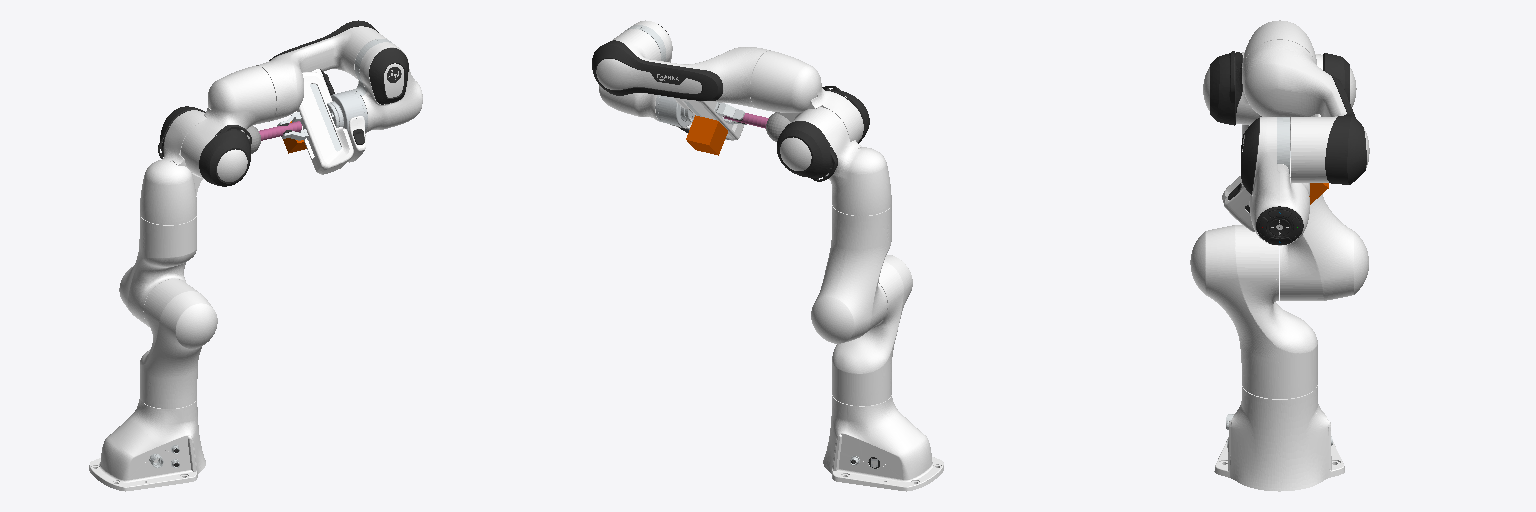
--- What the picture shows (computed from the rendered views, not written in the file) ---
The picture shows the robot from 3 angles, left to right: view 1: azimuth 30°, elevation 25°; view 2: azimuth 150°, elevation 25°; view 3: azimuth 270°, elevation 25°; orthographic projection.
Robot: panda — 16 links, 15 joints (8 revolute, 2 prismatic, 5 fixed); root link world; default pose: joints at zero except 1 at the middle of their limits (panda_joint4 = -1.57).
Links seen in each view (by area): view 1: panda_link0, panda_link1, panda_link4, panda_link3, panda_link5, panda_link6, panda_link2, panda_hand, panda_link7; view 2: panda_link0, panda_link5, panda_link2, panda_link3, panda_link1, panda_link4, panda_link6, panda_camera, panda_hand, panda_link7; view 3: panda_link1, panda_link5, panda_link0, panda_link6, panda_link2, panda_link4, panda_link3, panda_link7.
Boxes of the visible links, box(x1,y1,x2,y2) form: panda_link0: box(89, 399, 205, 491); panda_link1: box(140, 279, 217, 408); panda_link4: box(181, 66, 276, 186); panda_link3: box(140, 106, 206, 224); panda_link5: box(256, 20, 387, 121); panda_link6: box(353, 39, 422, 133); panda_link2: box(119, 216, 196, 326); panda_hand: box(294, 69, 353, 174); panda_link7: box(330, 90, 367, 162); panda_link0: box(823, 395, 943, 491); panda_link5: box(592, 29, 770, 107); panda_link2: box(811, 205, 891, 343); panda_link3: box(777, 107, 891, 215); panda_link1: box(832, 255, 912, 405); panda_link4: box(750, 51, 869, 143); panda_link6: box(599, 20, 672, 121); panda_camera: box(686, 115, 727, 155); panda_hand: box(673, 97, 743, 140); panda_link7: box(655, 95, 691, 132); panda_link1: box(1190, 225, 1317, 398); panda_link5: box(1242, 40, 1369, 184); panda_link0: box(1214, 385, 1344, 491); panda_link6: box(1241, 117, 1309, 245); panda_link2: box(1280, 194, 1368, 300); panda_link4: box(1203, 20, 1316, 125); panda_link3: box(1242, 53, 1356, 137); panda_link7: box(1224, 151, 1309, 231).
Bounding box of the posed robot: 0.7022 × 0.2593 × 0.7865 m (x, y, z).
11 mesh visuals loaded from 10 distinct referenced files (10 Collada DAE).

URDF robot description (panda):
<?xml version="1.0" encoding="utf-8"?>
<!-- =================================================================================== -->
<!-- |    This document was autogenerated by xacro from panda_arm_hand.urdf.xacro      | -->
<!-- |    EDITING THIS FILE BY HAND IS NOT RECOMMENDED                                 | -->
<!-- =================================================================================== -->
<robot name="panda" xmlns:xacro="http://www.ros.org/wiki/xacro">
  <!-- end for simulation -->
  <!-- for simulation -->
  <link name="world"/>
  <joint name="robot_to_world" type="fixed">
    <parent link="world"/>
    <child link="panda_link0"/>
    <origin rpy="0.0 0.0 0.0" xyz="0.0 0.0 0.0"/>
  </joint>
  <!-- end for simulation -->
  <link name="panda_link0">
    <visual>
      <geometry>
        <mesh filename="package://franka_description/meshes/visual/link0.dae"/>
      </geometry>
    </visual>
    <collision>
      <geometry>
        <mesh filename="package://franka_description/meshes/collision/link0.stl"/>
      </geometry>
    </collision>
    <!-- for simulation -->
    <inertial>
      <origin rpy="0 0 0" xyz="0 0 0"/>
      <mass value="3.06"/>
      <inertia ixx="0.3" ixy="0.0" ixz="0.0" iyy="0.3" iyz="0.0" izz="0.3"/>
    </inertial>
    <!-- end for simulation -->
  </link>
  <link name="panda_link1">
    <visual>
      <geometry>
        <mesh filename="package://franka_description/meshes/visual/link1.dae"/>
      </geometry>
    </visual>
    <collision>
      <geometry>
        <mesh filename="package://franka_description/meshes/collision/link1.stl"/>
      </geometry>
    </collision>
    <!-- for simulation -->
    <inertial>
      <origin rpy="0 0 0" xyz="0 0 0"/>
      <mass value="2.34"/>
      <inertia ixx="0.3" ixy="0.0" ixz="0.0" iyy="0.3" iyz="0.0" izz="0.3"/>
    </inertial>
    <!-- end for simulation -->
  </link>
  <joint name="panda_joint1" type="revolute">
    <safety_controller k_position="100.0" k_velocity="40.0" soft_lower_limit="-2.8973" soft_upper_limit="2.8973"/>
    <origin rpy="0 0 0" xyz="0 0 0.333"/>
    <parent link="panda_link0"/>
    <child link="panda_link1"/>
    <axis xyz="0 0 1"/>
    <limit effort="87" lower="-2.8973" upper="2.8973" velocity="2.1750"/>
    <!-- for simulation -->
    <dynamics damping="1.0"/>
    <!-- end for simulation -->
  </joint>
  <link name="panda_link2">
    <visual>
      <geometry>
        <mesh filename="package://franka_description/meshes/visual/link2.dae"/>
      </geometry>
    </visual>
    <collision>
      <geometry>
        <mesh filename="package://franka_description/meshes/collision/link2.stl"/>
      </geometry>
    </collision>
    <!-- for simulation -->
    <inertial>
      <origin rpy="0 0 0" xyz="0 0 0"/>
      <mass value="2.36"/>
      <inertia ixx="0.3" ixy="0.0" ixz="0.0" iyy="0.3" iyz="0.0" izz="0.3"/>
    </inertial>
    <!-- end for simulation -->
  </link>
  <joint name="panda_joint2" type="revolute">
    <safety_controller k_position="100.0" k_velocity="40.0" soft_lower_limit="-1.7628" soft_upper_limit="1.7628"/>
    <origin rpy="-1.57079632679 0 0" xyz="0 0 0"/>
    <parent link="panda_link1"/>
    <child link="panda_link2"/>
    <axis xyz="0 0 1"/>
    <limit effort="87" lower="-1.7628" upper="1.7628" velocity="2.1750"/>
    <!-- for simulation -->
    <dynamics damping="1.0"/>
    <!-- end for simulation -->
  </joint>
  <link name="panda_link3">
    <visual>
      <geometry>
        <mesh filename="package://franka_description/meshes/visual/link3.dae"/>
      </geometry>
    </visual>
    <collision>
      <geometry>
        <mesh filename="package://franka_description/meshes/collision/link3.stl"/>
      </geometry>
    </collision>
    <!-- for simulation -->
    <inertial>
      <origin rpy="0 0 0" xyz="0 0 0"/>
      <mass value="2.38"/>
      <inertia ixx="0.3" ixy="0.0" ixz="0.0" iyy="0.3" iyz="0.0" izz="0.3"/>
    </inertial>
    <!-- end for simulation -->
  </link>
  <joint name="panda_joint3" type="revolute">
    <safety_controller k_position="100.0" k_velocity="40.0" soft_lower_limit="-2.8973" soft_upper_limit="2.8973"/>
    <origin rpy="1.57079632679 0 0" xyz="0 -0.316 0"/>
    <parent link="panda_link2"/>
    <child link="panda_link3"/>
    <axis xyz="0 0 1"/>
    <limit effort="87" lower="-2.8973" upper="2.8973" velocity="2.1750"/>
    <!-- for simulation -->
    <dynamics damping="1.0"/>
    <!-- end for simulation -->
  </joint>
  <link name="panda_link4">
    <visual>
      <geometry>
        <mesh filename="package://franka_description/meshes/visual/link4.dae"/>
      </geometry>
    </visual>
    <collision>
      <geometry>
        <mesh filename="package://franka_description/meshes/collision/link4.stl"/>
      </geometry>
    </collision>
    <!-- for simulation -->
    <inertial>
      <origin rpy="0 0 0" xyz="0 0 0"/>
      <mass value="2.43"/>
      <inertia ixx="0.3" ixy="0.0" ixz="0.0" iyy="0.3" iyz="0.0" izz="0.3"/>
    </inertial>
    <!-- end for simulation -->
  </link>
  <joint name="panda_joint4" type="revolute">
    <safety_controller k_position="100.0" k_velocity="40.0" soft_lower_limit="-3.0718" soft_upper_limit="-0.0698"/>
    <origin rpy="1.57079632679 0 0" xyz="0.0825 0 0"/>
    <parent link="panda_link3"/>
    <child link="panda_link4"/>
    <axis xyz="0 0 1"/>
    <limit effort="87" lower="-3.0718" upper="-0.0698" velocity="2.1750"/>
    <!-- for simulation -->
    <dynamics damping="1.0"/>
    <!-- end for simulation -->
  </joint>
  <link name="panda_link5">
    <visual>
      <geometry>
        <mesh filename="package://franka_description/meshes/visual/link5.dae"/>
      </geometry>
    </visual>
    <collision>
      <geometry>
        <mesh filename="package://franka_description/meshes/collision/link5.stl"/>
      </geometry>
    </collision>
    <!-- for simulation -->
    <inertial>
      <origin rpy="0 0 0" xyz="0 0 0"/>
      <mass value="3.5"/>
      <inertia ixx="0.3" ixy="0.0" ixz="0.0" iyy="0.3" iyz="0.0" izz="0.3"/>
    </inertial>
    <!-- end for simulation -->
  </link>
  <joint name="panda_joint5" type="revolute">
    <safety_controller k_position="100.0" k_velocity="40.0" soft_lower_limit="-2.8973" soft_upper_limit="2.8973"/>
    <origin rpy="-1.57079632679 0 0" xyz="-0.0825 0.384 0"/>
    <parent link="panda_link4"/>
    <child link="panda_link5"/>
    <axis xyz="0 0 1"/>
    <limit effort="12" lower="-2.8973" upper="2.8973" velocity="2.6100"/>
    <!-- for simulation -->
    <dynamics damping="1.0"/>
    <!-- end for simulation -->
  </joint>
  <link name="panda_link6">
    <visual>
      <geometry>
        <mesh filename="package://franka_description/meshes/visual/link6.dae"/>
      </geometry>
    </visual>
    <collision>
      <geometry>
        <mesh filename="package://franka_description/meshes/collision/link6.stl"/>
      </geometry>
    </collision>
    <!-- for simulation -->
    <inertial>
      <origin rpy="0 0 0" xyz="0 0 0"/>
      <mass value="1.47"/>
      <inertia ixx="0.3" ixy="0.0" ixz="0.0" iyy="0.3" iyz="0.0" izz="0.3"/>
    </inertial>
    <!-- end for simulation -->
  </link>
  <joint name="panda_joint6" type="revolute">
    <safety_controller k_position="100.0" k_velocity="40.0" soft_lower_limit="-0.0175" soft_upper_limit="3.7525"/>
    <origin rpy="1.57079632679 0 0" xyz="0 0 0"/>
    <parent link="panda_link5"/>
    <child link="panda_link6"/>
    <axis xyz="0 0 1"/>
    <limit effort="12" lower="-0.0175" upper="3.7525" velocity="2.6100"/>
    <!-- for simulation -->
    <dynamics damping="1.0"/>
    <!-- end for simulation -->
  </joint>
  <link name="panda_link7">
    <visual>
      <geometry>
        <mesh filename="package://franka_description/meshes/visual/link7.dae"/>
      </geometry>
    </visual>
    <collision>
      <geometry>
        <mesh filename="package://franka_description/meshes/collision/link7.stl"/>
      </geometry>
    </collision>
    <!-- for simulation -->
    <inertial>
      <origin rpy="0 0 0" xyz="0 0 0"/>
      <mass value="0.45"/>
      <inertia ixx="0.3" ixy="0.0" ixz="0.0" iyy="0.3" iyz="0.0" izz="0.3"/>
    </inertial>
    <!-- end for simulation -->
  </link>
  <joint name="panda_joint7" type="revolute">
    <safety_controller k_position="100.0" k_velocity="40.0" soft_lower_limit="-2.8973" soft_upper_limit="2.8973"/>
    <origin rpy="1.57079632679 0 0" xyz="0.088 0 0"/>
    <parent link="panda_link6"/>
    <child link="panda_link7"/>
    <axis xyz="0 0 1"/>
    <limit effort="12" lower="-2.8973" upper="2.8973" velocity="2.6100"/>
    <!-- for simulation -->
    <dynamics damping="1.0"/>
    <!-- end for simulation -->
  </joint>
  <link name="panda_link8">
    <!-- for simulation -->
    <inertial>
      <origin rpy="0 0 0" xyz="0 0 0"/>
      <mass value="0.0"/>
      <inertia ixx="0.3" ixy="0.0" ixz="0.0" iyy="0.3" iyz="0.0" izz="0.3"/>
    </inertial>
    <!-- end for simulation -->
  </link>
  <joint name="panda_joint8" type="fixed">
    <origin rpy="0 0 0" xyz="0 0 0.107"/>
    <parent link="panda_link7"/>
    <child link="panda_link8"/>
    <axis xyz="0 0 0"/>
  </joint>
  <joint name="panda_hand_joint" type="fixed">
    <parent link="panda_link8"/>
    <child link="panda_hand"/>
    <origin rpy="0 0 -0.785398163397" xyz="0 0 0"/>
  </joint>
  <link name="panda_hand">
    <visual>
      <geometry>
        <mesh filename="package://franka_description/meshes/visual/hand.dae"/>
      </geometry>
    </visual>
    <collision>
      <geometry>
        <mesh filename="package://franka_description/meshes/collision/hand.stl"/>
      </geometry>
    </collision>
    <!-- for simulation -->
    <inertial>
      <origin rpy="0 0 0" xyz="0 0 0"/>
      <mass value="0.68"/>
      <inertia ixx="0.1" ixy="0.0" ixz="0.0" iyy="0.1" iyz="0.0" izz="0.1"/>
    </inertial>
    <!-- end for simulation -->
  </link>
  <link name="panda_leftfinger">
    <visual>
      <geometry>
        <mesh filename="package://franka_description/meshes/visual/finger.dae"/>
      </geometry>
    </visual>
    <collision>
      <geometry>
        <mesh filename="package://franka_description/meshes/collision/finger.stl"/>
      </geometry>
    </collision>
    <!-- for simulation -->
    <inertial>
      <origin rpy="0 0 0" xyz="0 0 0"/>
      <mass value="0.01"/>
      <inertia ixx="0.1" ixy="0.0" ixz="0.0" iyy="0.1" iyz="0.0" izz="0.1"/>
    </inertial>
    <!-- end for simulation -->
  </link>
  <link name="panda_rightfinger">
    <visual>
      <origin rpy="0 0 3.14159265359" xyz="0 0 0"/>
      <geometry>
        <mesh filename="package://franka_description/meshes/visual/finger.dae"/>
      </geometry>
    </visual>
    <collision>
      <origin rpy="0 0 3.14159265359" xyz="0 0 0"/>
      <geometry>
        <mesh filename="package://franka_description/meshes/collision/finger.stl"/>
      </geometry>
    </collision>
    <!-- for simulation -->
    <inertial>
      <origin rpy="0 0 0" xyz="0 0 0"/>
      <mass value="0.01"/>
      <inertia ixx="0.1" ixy="0.0" ixz="0.0" iyy="0.1" iyz="0.0" izz="0.1"/>
    </inertial>
    <!-- end for simulation -->
  </link>
  <joint name="panda_finger_joint1" type="prismatic">
    <parent link="panda_hand"/>
    <child link="panda_leftfinger"/>
    <origin rpy="0 0 0" xyz="0 0 0.0584"/>
    <axis xyz="0 1 0"/>
    <limit effort="20" lower="0.0" upper="0.04" velocity="0.2"/>
  </joint>
  <joint name="panda_finger_joint2" type="prismatic">
    <parent link="panda_hand"/>
    <child link="panda_rightfinger"/>
    <origin rpy="0 0 0" xyz="0 0 0.0584"/>
    <axis xyz="0 -1 0"/>
    <limit effort="20" lower="0.0" upper="0.04" velocity="0.2"/>
  </joint>
  <!-- Wrist mounted camera -->
  <joint name="panda_camera_joint" type="fixed">
    <parent link="panda_hand"/>
    <child link="panda_camera"/>
    <origin rpy="0 0 0" xyz="0.05 0 0.05"/>
    <axis xyz="0 1 0"/>
  </joint>
  <link name="panda_camera">
    <visual>
      <geometry>
        <box size="0.05 0.05 0.05"/>
      </geometry>
    </visual>
    <collision>
      <geometry>
        <box size="0.05 0.05 0.05"/>
      </geometry>
    </collision>
    <inertial>
      <origin rpy="0 0 0" xyz="0 0 0"/>
      <mass value="0.15625"/>
      <inertia ixx="0.000065104" ixy="0.0" ixz="0.0" iyy="0.000065104" iyz="0.0" izz="0.000065104"/>
    </inertial>
  </link>
  <joint name="panda_probe_cyl_joint" type="revolute">
    <parent link="panda_hand"/>
    <child link="panda_probe_cyl"/>
    <origin rpy="0 0 0" xyz="0 0 0.12"/>
    <axis xyz="0 1 0"/>
    <limit effort="20" lower="0.0" upper="0.0" velocity="0.0"/>
  </joint>
  <!-- 
    Masses and inertia based on density of PLA (1250 kg/m^3)
    Assumed uniform density 
    R = 0.03 m of ball
    r = 0.01 m of cyl
    L = 0.1 m of cyl
    I_ball = 2./5.*m_ball*R**2
    I_axis = 1./2.*m_cyl*r**2
    I_oAxis = 1./4.*m_cyl*r**2+1./12.*m_cyl*L**2
    -->
  <link name="panda_probe_cyl">
    <visual>
      <geometry>
        <cylinder length="0.1" radius="0.01"/>
      </geometry>
    </visual>
    <collision>
      <geometry>
        <cylinder length="0.1" radius="0.01"/>
      </geometry>
    </collision>
    <inertial>
      <origin rpy="0 0 0" xyz="0 0 0"/>
      <mass value="0.03926990816987242"/>
      <inertia ixx="3.3706671179140497e-05" ixy="0.0" ixz="0.0" iyy="3.3706671179140497e-05" iyz="0.0" izz="1.963495408493621e-06"/>
    </inertial>
  </link>
  <joint name="panda_probe_ball_joint" type="fixed">
    <parent link="panda_probe_cyl"/>
    <child link="panda_probe_ball"/>
    <origin rpy="0 0 0" xyz="0 0 0.07"/>
    <axis xyz="0 1 0"/>
  </joint>
  <link name="panda_probe_ball">
    <visual>
      <geometry>
        <sphere radius="0.03"/>
      </geometry>
    </visual>
    <collision>
      <geometry>
        <sphere radius="0.03"/>
      </geometry>
    </collision>
    <inertial>
      <origin rpy="0 0 0" xyz="0 0 0"/>
      <mass value="0.033749999999999995"/>
      <inertia ixx="1.2149999999999997e-05" ixy="0.0" ixz="0.0" iyy="1.2149999999999997e-05" iyz="0.0" izz="1.2149999999999997e-05"/>
    </inertial>
  </link>
  <gazebo reference="panda_link1">
    <sensor name="panda_link1_bumper" type="contact">
      <topic>/bump_topic/panda_link1</topic>
      <plugin filename="libgazebo_ros_bumper.so" name="gazebo_ros_bumper_controller_panda_link1">
        <topic>/bump_topic/panda_link1</topic>
        <alwaysOn>1</alwaysOn>
        <updateRate>100.0</updateRate>
        <bumperTopicName>/panda/bumper/panda_link1</bumperTopicName>
      </plugin>
      <contact>
        <collision>panda_link1_collision</collision>
        <topic>/bump_topic/panda_link1</topic>
      </contact>
      <alwaysOn>true</alwaysOn>
      <updateRate>10.0</updateRate>
    </sensor>
  </gazebo>
  <gazebo reference="panda_link2">
    <sensor name="panda_link2_bumper" type="contact">
      <topic>/bump_topic/panda_link2</topic>
      <plugin filename="libgazebo_ros_bumper.so" name="gazebo_ros_bumper_controller_panda_link2">
        <topic>/bump_topic/panda_link2</topic>
        <alwaysOn>1</alwaysOn>
        <updateRate>100.0</updateRate>
        <bumperTopicName>/panda/bumper/panda_link2</bumperTopicName>
      </plugin>
      <contact>
        <collision>panda_link2_collision</collision>
        <topic>/bump_topic/panda_link2</topic>
      </contact>
      <alwaysOn>true</alwaysOn>
      <updateRate>10.0</updateRate>
    </sensor>
  </gazebo>
  <gazebo reference="panda_link3">
    <sensor name="panda_link3_bumper" type="contact">
      <topic>/bump_topic/panda_link3</topic>
      <plugin filename="libgazebo_ros_bumper.so" name="gazebo_ros_bumper_controller_panda_link3">
        <topic>/bump_topic/panda_link3</topic>
        <alwaysOn>1</alwaysOn>
        <updateRate>100.0</updateRate>
        <bumperTopicName>/panda/bumper/panda_link3</bumperTopicName>
      </plugin>
      <contact>
        <collision>panda_link3_collision</collision>
        <topic>/bump_topic/panda_link3</topic>
      </contact>
      <alwaysOn>true</alwaysOn>
      <updateRate>10.0</updateRate>
    </sensor>
  </gazebo>
  <gazebo reference="panda_link4">
    <sensor name="panda_link4_bumper" type="contact">
      <topic>/bump_topic/panda_link4</topic>
      <plugin filename="libgazebo_ros_bumper.so" name="gazebo_ros_bumper_controller_panda_link4">
        <topic>/bump_topic/panda_link4</topic>
        <alwaysOn>1</alwaysOn>
        <updateRate>100.0</updateRate>
        <bumperTopicName>/panda/bumper/panda_link4</bumperTopicName>
      </plugin>
      <contact>
        <collision>panda_link4_collision</collision>
        <topic>/bump_topic/panda_link4</topic>
      </contact>
      <alwaysOn>true</alwaysOn>
      <updateRate>10.0</updateRate>
    </sensor>
  </gazebo>
  <gazebo reference="panda_link5">
    <sensor name="panda_link5_bumper" type="contact">
      <topic>/bump_topic/panda_link5</topic>
      <plugin filename="libgazebo_ros_bumper.so" name="gazebo_ros_bumper_controller_panda_link5">
        <topic>/bump_topic/panda_link5</topic>
        <alwaysOn>1</alwaysOn>
        <updateRate>100.0</updateRate>
        <bumperTopicName>/panda/bumper/panda_link5</bumperTopicName>
      </plugin>
      <contact>
        <collision>panda_link5_collision</collision>
        <topic>/bump_topic/panda_link5</topic>
      </contact>
      <alwaysOn>true</alwaysOn>
      <updateRate>10.0</updateRate>
    </sensor>
  </gazebo>
  <gazebo reference="panda_link6">
    <sensor name="panda_link6_bumper" type="contact">
      <topic>/bump_topic/panda_link6</topic>
      <plugin filename="libgazebo_ros_bumper.so" name="gazebo_ros_bumper_controller_panda_link6">
        <topic>/bump_topic/panda_link6</topic>
        <alwaysOn>1</alwaysOn>
        <updateRate>100.0</updateRate>
        <bumperTopicName>/panda/bumper/panda_link6</bumperTopicName>
      </plugin>
      <contact>
        <collision>panda_link6_collision</collision>
        <topic>/bump_topic/panda_link6</topic>
      </contact>
      <alwaysOn>true</alwaysOn>
      <updateRate>10.0</updateRate>
    </sensor>
  </gazebo>
  <gazebo reference="panda_link7">
    <sensor name="panda_link7_bumper" type="contact">
      <topic>/bump_topic/panda_link7</topic>
      <plugin filename="libgazebo_ros_bumper.so" name="gazebo_ros_bumper_controller_panda_link7">
        <topic>/bump_topic/panda_link7</topic>
        <alwaysOn>1</alwaysOn>
        <updateRate>100.0</updateRate>
        <bumperTopicName>/panda/bumper/panda_link7</bumperTopicName>
      </plugin>
      <contact>
        <collision>panda_link7_collision</collision>
        <collision>panda_link7_fixed_joint_lump__panda_hand_collision_1</collision>
        <topic>/bump_topic/panda_link7</topic>
      </contact>
      <alwaysOn>true</alwaysOn>
      <updateRate>10.0</updateRate>
    </sensor>
  </gazebo>
  <gazebo reference="panda_link8">
    <sensor name="panda_link8_bumper" type="contact">
      <topic>/bump_topic/panda_link8</topic>
      <plugin filename="libgazebo_ros_bumper.so" name="gazebo_ros_bumper_controller_panda_link8">
        <topic>/bump_topic/panda_link8</topic>
        <alwaysOn>1</alwaysOn>
        <updateRate>100.0</updateRate>
        <bumperTopicName>/panda/bumper/panda_link8</bumperTopicName>
      </plugin>
      <contact>
        <collision>panda_link8_collision</collision>
        <topic>/bump_topic/panda_link8</topic>
      </contact>
      <alwaysOn>true</alwaysOn>
      <updateRate>10.0</updateRate>
    </sensor>
  </gazebo>
  <gazebo reference="panda_hand">
    <sensor name="panda_hand_bumper" type="contact">
      <topic>/bump_topic/panda_hand</topic>
      <plugin filename="libgazebo_ros_bumper.so" name="gazebo_ros_bumper_controller_panda_hand">
        <topic>/bump_topic/panda_hand</topic>
        <alwaysOn>1</alwaysOn>
        <updateRate>100.0</updateRate>
        <bumperTopicName>/panda/bumper/panda_hand</bumperTopicName>
      </plugin>
      <contact>
        <collision>panda_hand_collision</collision>
        <topic>/bump_topic/panda_hand</topic>
      </contact>
      <alwaysOn>true</alwaysOn>
      <updateRate>10.0</updateRate>
    </sensor>
  </gazebo>
  <gazebo reference="panda_rightfinger">
    <sensor name="panda_rightfinger_bumper" type="contact">
      <topic>/bump_topic/panda_rightfinger</topic>
      <plugin filename="libgazebo_ros_bumper.so" name="gazebo_ros_bumper_controller_panda_rightfinger">
        <topic>/bump_topic/panda_rightfinger</topic>
        <alwaysOn>1</alwaysOn>
        <updateRate>100.0</updateRate>
        <bumperTopicName>/panda/bumper/panda_rightfinger</bumperTopicName>
      </plugin>
      <contact>
        <collision>panda_rightfinger_collision</collision>
        <topic>/bump_topic/panda_rightfinger</topic>
      </contact>
      <alwaysOn>true</alwaysOn>
      <updateRate>10.0</updateRate>
    </sensor>
  </gazebo>
  <gazebo reference="panda_leftfinger">
    <sensor name="panda_leftfinger_bumper" type="contact">
      <topic>/bump_topic/panda_leftfinger</topic>
      <plugin filename="libgazebo_ros_bumper.so" name="gazebo_ros_bumper_controller_panda_leftfinger">
        <topic>/bump_topic/panda_leftfinger</topic>
        <alwaysOn>1</alwaysOn>
        <updateRate>100.0</updateRate>
        <bumperTopicName>/panda/bumper/panda_leftfinger</bumperTopicName>
      </plugin>
      <contact>
        <collision>panda_leftfinger_collision</collision>
        <topic>/bump_topic/panda_leftfinger</topic>
      </contact>
      <alwaysOn>true</alwaysOn>
      <updateRate>10.0</updateRate>
    </sensor>
  </gazebo>
  <gazebo reference="panda_probe_cyl">
    <sensor name="panda_probe_cyl_bumper" type="contact">
      <topic>/bump_topic/panda_probe_cyl</topic>
      <plugin filename="libgazebo_ros_bumper.so" name="gazebo_ros_bumper_controller_panda_probe_cyl">
        <topic>/bump_topic/panda_probe_cyl</topic>
        <alwaysOn>1</alwaysOn>
        <updateRate>100.0</updateRate>
        <bumperTopicName>/panda/bumper/panda_probe_cyl</bumperTopicName>
      </plugin>
      <contact>
        <collision>panda_probe_cyl_collision</collision>
        <collision>panda_probe_cyl_collision</collision>
        <topic>/bump_topic/panda_probe_cyl</topic>
      </contact>
      <alwaysOn>true</alwaysOn>
      <updateRate>10.0</updateRate>
    </sensor>
  </gazebo>
  <gazebo reference="panda_probe_ball">
    <sensor name="panda_probe_ball_bumper" type="contact">
      <topic>/bump_topic/panda_probe_ball</topic>
      <plugin filename="libgazebo_ros_bumper.so" name="gazebo_ros_bumper_controller_panda_probe_ball">
        <topic>/bump_topic/panda_probe_ball</topic>
        <alwaysOn>1</alwaysOn>
        <updateRate>100.0</updateRate>
        <bumperTopicName>/panda/bumper/panda_probe_ball</bumperTopicName>
      </plugin>
      <contact>
        <collision>panda_probe_ball_collision</collision>
        <collision>panda_probe_cyl_fixed_joint_lump__panda_probe_ball_collision_1</collision>
        <topic>/bump_topic/panda_probe_ball</topic>
      </contact>
      <alwaysOn>true</alwaysOn>
      <updateRate>10.0</updateRate>
    </sensor>
  </gazebo>
  <!-- FT sensing at probe -->
  <gazebo reference="panda_probe_cyl_joint">
    <provideFeedback>true</provideFeedback>
  </gazebo>
  <gazebo>
    <plugin filename="libgazebo_ros_ft_sensor.so" name="ft_sensor_tool">
      <updateRate>1000.0</updateRate>
      <topicName>panda/ft/tool</topicName>
      <jointName>panda_probe_cyl_joint</jointName>
    </plugin>
  </gazebo>
  <!-- Link0 -->
  <gazebo reference="panda_link0">
    <material>Gazebo/Grey</material>
    <mu1>0.2</mu1>
    <mu2>0.2</mu2>
  </gazebo>
  <!-- Link1 -->
  <gazebo reference="panda_link1">
    <material>Gazebo/White</material>
    <mu1>0.2</mu1>
    <mu2>0.2</mu2>
  </gazebo>
  <!-- Link2 -->
  <gazebo reference="panda_link2">
    <material>Gazebo/White</material>
    <mu1>0.2</mu1>
    <mu2>0.2</mu2>
  </gazebo>
  <!-- Link3 -->
  <gazebo reference="panda_link3">
    <material>Gazebo/White</material>
    <mu1>0.2</mu1>
    <mu2>0.2</mu2>
  </gazebo>
  <!-- Link4 -->
  <gazebo reference="panda_link4">
    <material>Gazebo/White</material>
    <mu1>0.2</mu1>
    <mu2>0.2</mu2>
  </gazebo>
  <!-- Link5 -->
  <gazebo reference="panda_link5">
    <material>Gazebo/White</material>
    <mu1>0.2</mu1>
    <mu2>0.2</mu2>
  </gazebo>
  <!-- Link6 -->
  <gazebo reference="panda_link6">
    <material>Gazebo/White</material>
    <mu1>0.2</mu1>
    <mu2>0.2</mu2>
  </gazebo>
  <!-- Link7 -->
  <gazebo reference="panda_link7">
    <material>Gazebo/Grey</material>
    <mu1>0.2</mu1>
    <mu2>0.2</mu2>
  </gazebo>
  <!-- Link8 -->
  <gazebo reference="panda_link8">
    <material>Gazebo/Grey</material>
    <mu1>0.2</mu1>
    <mu2>0.2</mu2>
  </gazebo>
  <!-- LinkHand -->
  <gazebo reference="panda_hand">
    <material>Gazebo/Grey</material>
    <mu1>0.2</mu1>
    <mu2>0.2</mu2>
  </gazebo>
  <!-- LinkRightFinger -->
  <gazebo reference="panda_rightfinger">
    <material>Gazebo/Grey</material>
    <mu1>0.2</mu1>
    <mu2>0.2</mu2>
  </gazebo>
  <!-- LinkLeftFinger -->
  <gazebo reference="panda_leftfinger">
    <material>Gazebo/Grey</material>
    <mu1>0.2</mu1>
    <mu2>0.2</mu2>
  </gazebo>
  <!-- Load Gazebo lib and set the robot namespace -->
  <gazebo>
    <plugin filename="libgazebo_ros_control.so" name="gazebo_ros_control">
      <!-- <robotNamespace>/${robot_name}</robotNamespace> -->
    </plugin>
  </gazebo>
  <transmission name="panda_tran_1">
    <type>transmission_interface/SimpleTransmission</type>
    <joint name="panda_joint1">
      <hardwareInterface>hardware_interface/EffortJointInterface</hardwareInterface>
    </joint>
    <actuator name="panda_motor_1">
      <hardwareInterface>hardware_interface/EffortJointInterface</hardwareInterface>
      <mechanicalReduction>1</mechanicalReduction>
    </actuator>
  </transmission>
  <transmission name="panda_tran_2">
    <type>transmission_interface/SimpleTransmission</type>
    <joint name="panda_joint2">
      <hardwareInterface>hardware_interface/EffortJointInterface</hardwareInterface>
    </joint>
    <actuator name="panda_motor_2">
      <hardwareInterface>hardware_interface/EffortJointInterface</hardwareInterface>
      <mechanicalReduction>1</mechanicalReduction>
    </actuator>
  </transmission>
  <transmission name="panda_tran_3">
    <type>transmission_interface/SimpleTransmission</type>
    <joint name="panda_joint3">
      <hardwareInterface>hardware_interface/EffortJointInterface</hardwareInterface>
    </joint>
    <actuator name="panda_motor_3">
      <hardwareInterface>hardware_interface/EffortJointInterface</hardwareInterface>
      <mechanicalReduction>1</mechanicalReduction>
    </actuator>
  </transmission>
  <transmission name="panda_tran_4">
    <type>transmission_interface/SimpleTransmission</type>
    <joint name="panda_joint4">
      <hardwareInterface>hardware_interface/EffortJointInterface</hardwareInterface>
    </joint>
    <actuator name="panda_motor_4">
      <hardwareInterface>hardware_interface/EffortJointInterface</hardwareInterface>
      <mechanicalReduction>1</mechanicalReduction>
    </actuator>
  </transmission>
  <transmission name="panda_tran_5">
    <type>transmission_interface/SimpleTransmission</type>
    <joint name="panda_joint5">
      <hardwareInterface>hardware_interface/EffortJointInterface</hardwareInterface>
    </joint>
    <actuator name="panda_motor_5">
      <hardwareInterface>hardware_interface/EffortJointInterface</hardwareInterface>
      <mechanicalReduction>1</mechanicalReduction>
    </actuator>
  </transmission>
  <transmission name="panda_tran_6">
    <type>transmission_interface/SimpleTransmission</type>
    <joint name="panda_joint6">
      <hardwareInterface>hardware_interface/EffortJointInterface</hardwareInterface>
    </joint>
    <actuator name="panda_motor_6">
      <hardwareInterface>hardware_interface/EffortJointInterface</hardwareInterface>
      <mechanicalReduction>1</mechanicalReduction>
    </actuator>
  </transmission>
  <transmission name="panda_tran_7">
    <type>transmission_interface/SimpleTransmission</type>
    <joint name="panda_joint7">
      <hardwareInterface>hardware_interface/EffortJointInterface</hardwareInterface>
    </joint>
    <actuator name="panda_motor_7">
      <hardwareInterface>hardware_interface/EffortJointInterface</hardwareInterface>
      <mechanicalReduction>1</mechanicalReduction>
    </actuator>
  </transmission>
  <transmission name="panda_leftfinger">
    <type>transmission_interface/SimpleTransmission</type>
    <joint name="panda_finger_joint1">
      <hardwareInterface>hardware_interface/EffortJointInterface</hardwareInterface>
    </joint>
    <actuator name="panda_finger_joint1">
      <hardwareInterface>hardware_interface/EffortJointInterface</hardwareInterface>
      <mechanicalReduction>1</mechanicalReduction>
    </actuator>
  </transmission>
  <transmission name="panda_rightfinger">
    <type>transmission_interface/SimpleTransmission</type>
    <joint name="panda_finger_joint2">
      <hardwareInterface>hardware_interface/EffortJointInterface</hardwareInterface>
    </joint>
    <actuator name="panda_finger_joint2">
      <hardwareInterface>hardware_interface/EffortJointInterface</hardwareInterface>
      <mechanicalReduction>1</mechanicalReduction>
    </actuator>
  </transmission>
  <transmission name="panda_probe">
    <type>transmission_interface/SimpleTransmission</type>
    <joint name="panda_probe_cyl_joint">
      <hardwareInterface>hardware_interface/EffortJointInterface</hardwareInterface>
    </joint>
    <actuator name="panda_probe_cyl_joint">
      <hardwareInterface>hardware_interface/EffortJointInterface</hardwareInterface>
      <mechanicalReduction>1</mechanicalReduction>
    </actuator>
  </transmission>
  <!-- end for simulation -->
</robot>
